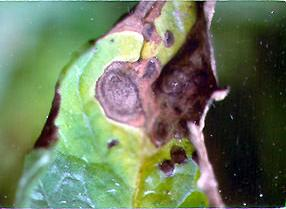Tomato Early blight leaf: (13, 1, 230, 207)
